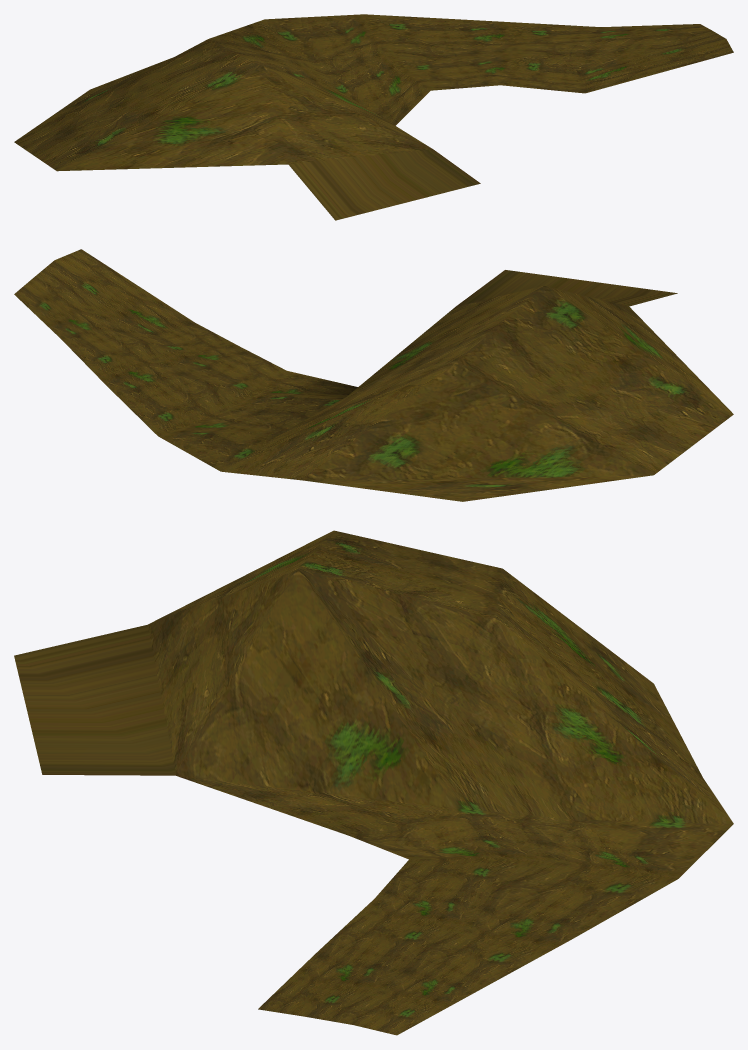
File: MIRKWOOD_AREA3_BARRIERB.fbx
3 views of the same model, one above another, from view 1: azimuth 30°, elevation 25°; view 2: azimuth 150°, elevation 25°; view 3: azimuth 270°, elevation 25° (orthographic). The views are drawn at different scales.
Parts seen in each view (by area): view 1: MIRKWOOD_AREA3_BARRIERB; view 2: MIRKWOOD_AREA3_BARRIERB; view 3: MIRKWOOD_AREA3_BARRIERB.
Boxes of the visible parts, left/top/right/bottom form: MIRKWOOD_AREA3_BARRIERB: left=14, top=14, right=733, bottom=220; MIRKWOOD_AREA3_BARRIERB: left=14, top=249, right=733, bottom=501; MIRKWOOD_AREA3_BARRIERB: left=14, top=530, right=733, bottom=1035.
Bounding box in the file's own units: 843064 × 148188 × 557119.
Materials: 1 (1 with a texture image).
